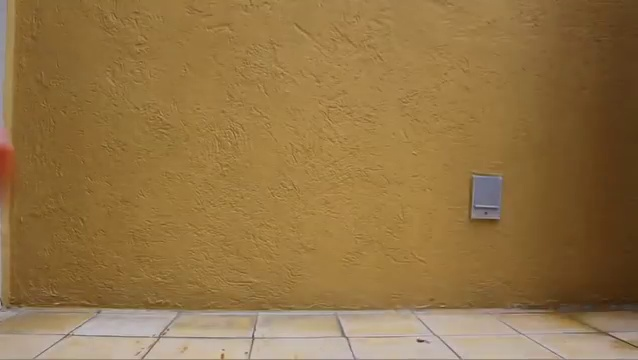ball: (2, 121, 19, 210)
